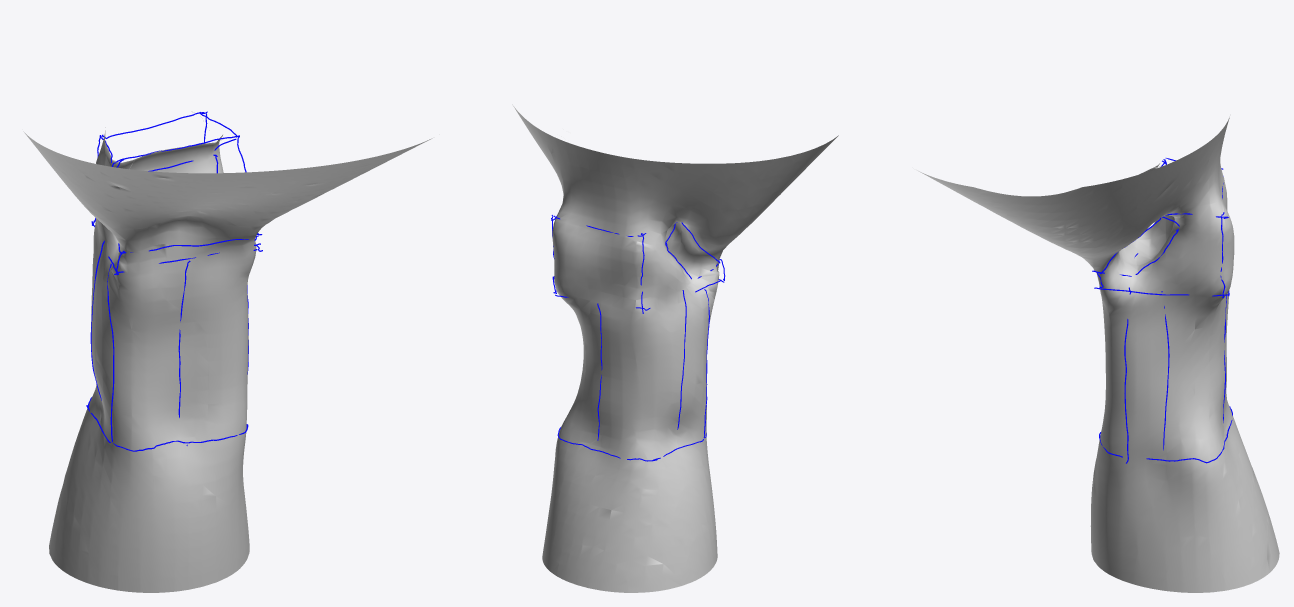
Rendered from scaffold_sketch_P4_trash_sketch_proxy.glb.
3 renders of one model, left to right at view 1: azimuth 30°, elevation 25°; view 2: azimuth 150°, elevation 25°; view 3: azimuth 270°, elevation 25°, orthographic. The views are drawn at different scales.
Parts seen in each view (by area): view 1: scaffold_sketch_P4_trash_surface, scaffold_sketch_P4_trash; view 2: scaffold_sketch_P4_trash_surface, scaffold_sketch_P4_trash; view 3: scaffold_sketch_P4_trash_surface, scaffold_sketch_P4_trash.
Boxes of the visible parts, x1,y1,x2,y2 form: scaffold_sketch_P4_trash_surface: (23, 127, 432, 592); scaffold_sketch_P4_trash: (86, 111, 262, 451); scaffold_sketch_P4_trash_surface: (512, 104, 838, 592); scaffold_sketch_P4_trash: (551, 215, 725, 461); scaffold_sketch_P4_trash_surface: (917, 117, 1279, 592); scaffold_sketch_P4_trash: (1092, 158, 1232, 463).
Bounding box in the file's own units: 1.42 × 1.75 × 1.38.
